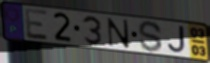2: (53, 12, 73, 44)
3: (81, 15, 104, 47)
E: (23, 7, 50, 42)
J: (167, 26, 187, 54)
N: (107, 17, 131, 49)
S: (137, 19, 164, 53)
